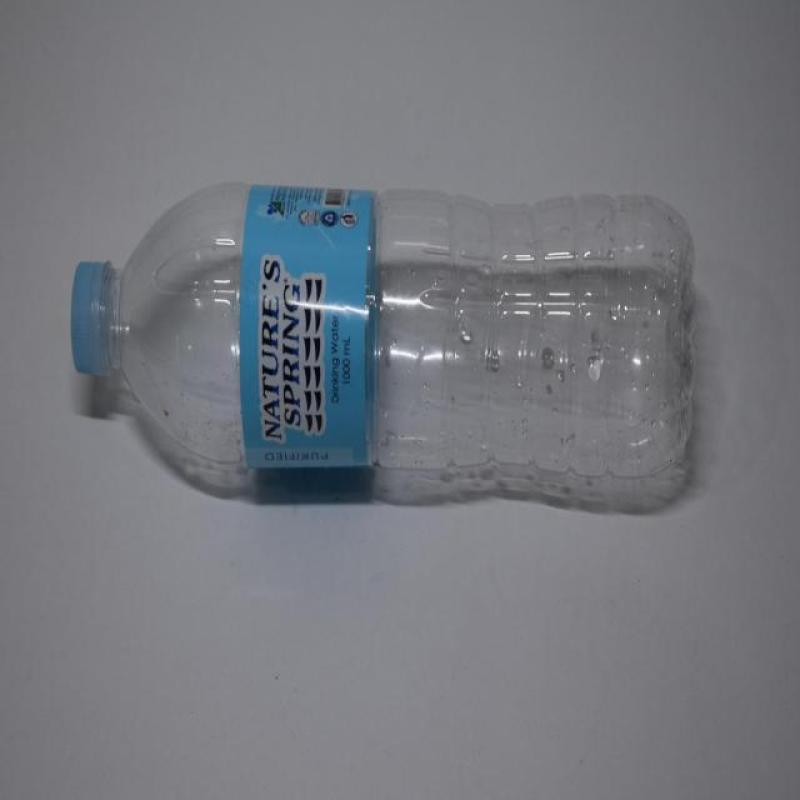botella: (69, 184, 695, 482)
